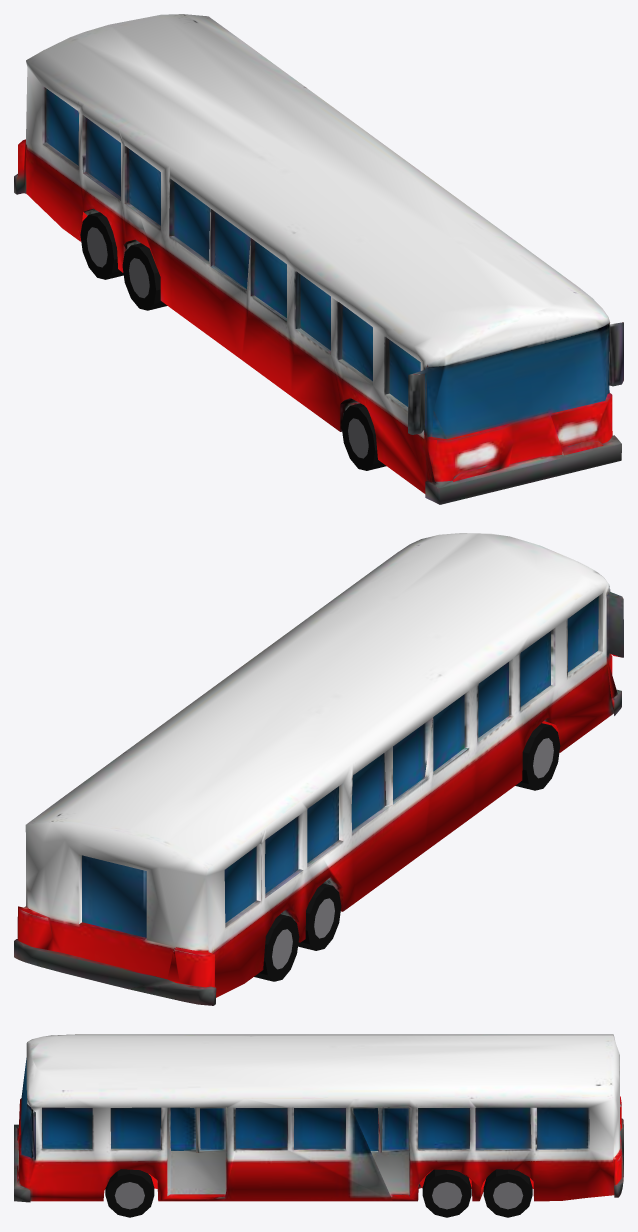
File: bus.glb
3 renders of one model, top to bottom at view 1: azimuth 30°, elevation 25°; view 2: azimuth 150°, elevation 25°; view 3: azimuth 270°, elevation 25°, orthographic. The views are drawn at different scales.
Visible parts, largest first — view 1: bus, wheel_mr, wheel_rr, wheel_fr; view 2: bus, wheel_fr, wheel_mr, wheel_rr; view 3: bus, wheel_rl, wheel_ml, wheel_fl.
Boxes of the visible parts, left/top/right/bottom form: bus: left=14, top=14, right=623, bottom=504; wheel_mr: left=122, top=243, right=167, bottom=310; wheel_rr: left=80, top=212, right=123, bottom=279; wheel_fr: left=341, top=403, right=386, bottom=470; bus: left=14, top=533, right=623, bottom=1005; wheel_fr: left=515, top=723, right=560, bottom=790; wheel_mr: left=298, top=883, right=341, bottom=950; wheel_rr: left=254, top=914, right=299, bottom=981; bus: left=14, top=1034, right=623, bottom=1202; wheel_rl: left=483, top=1169, right=532, bottom=1217; wheel_ml: left=422, top=1169, right=471, bottom=1217; wheel_fl: left=105, top=1169, right=154, bottom=1217.
Bounding box in the file's own units: 3.11 × 2.47 × 10.5.
1 material, 1 textured.
